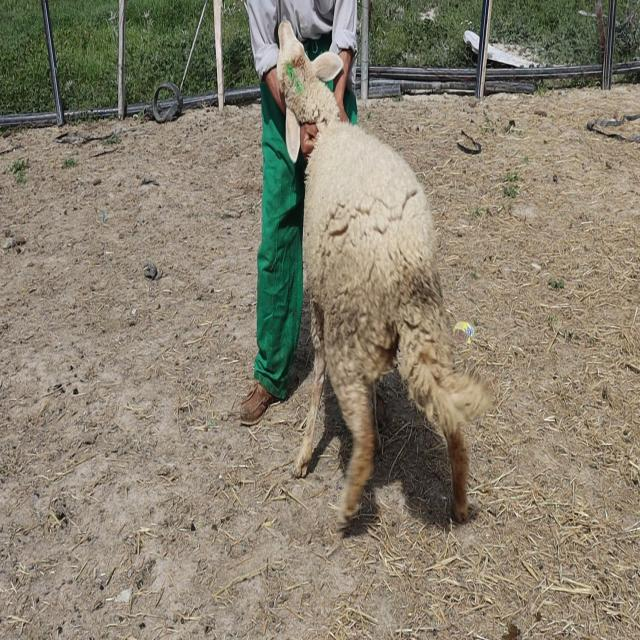Score_4: (277, 20, 490, 528)
